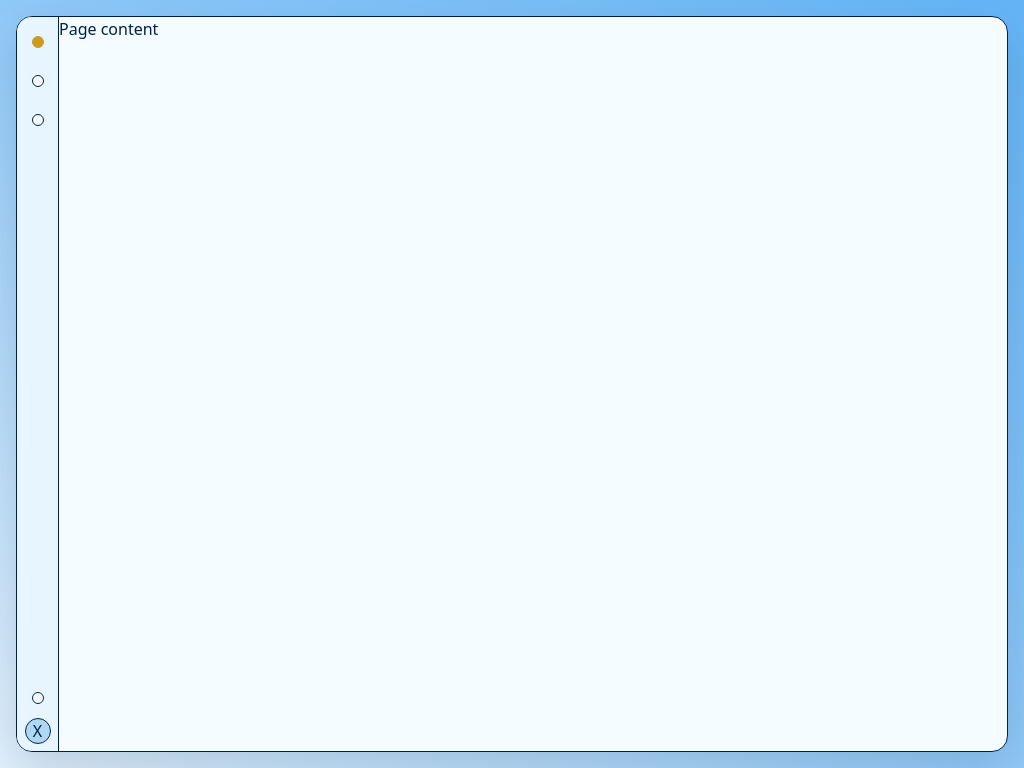
SharedNet application shell › shows a neutral principal label when the live projection is unavailable
Click the button named "Open Xisen account": (38, 731) [24,718,50,744]
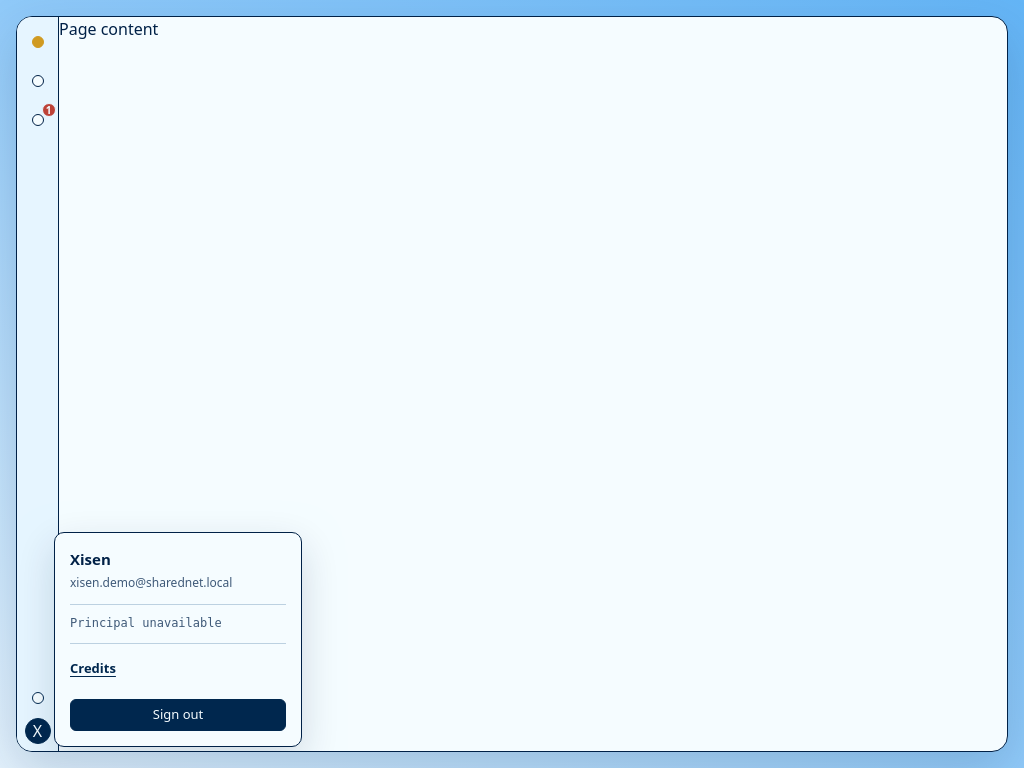
Expected: the element named "Account" does not show "user_xisen", [54,532,302,747]
Now the element named "Account" shows "Principal unavailable", box [70,616,222,630]
